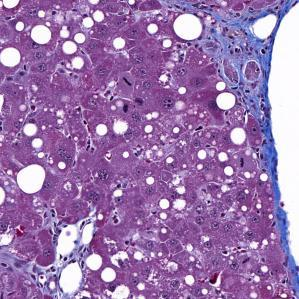fibrosis: (205, 10, 271, 106)
